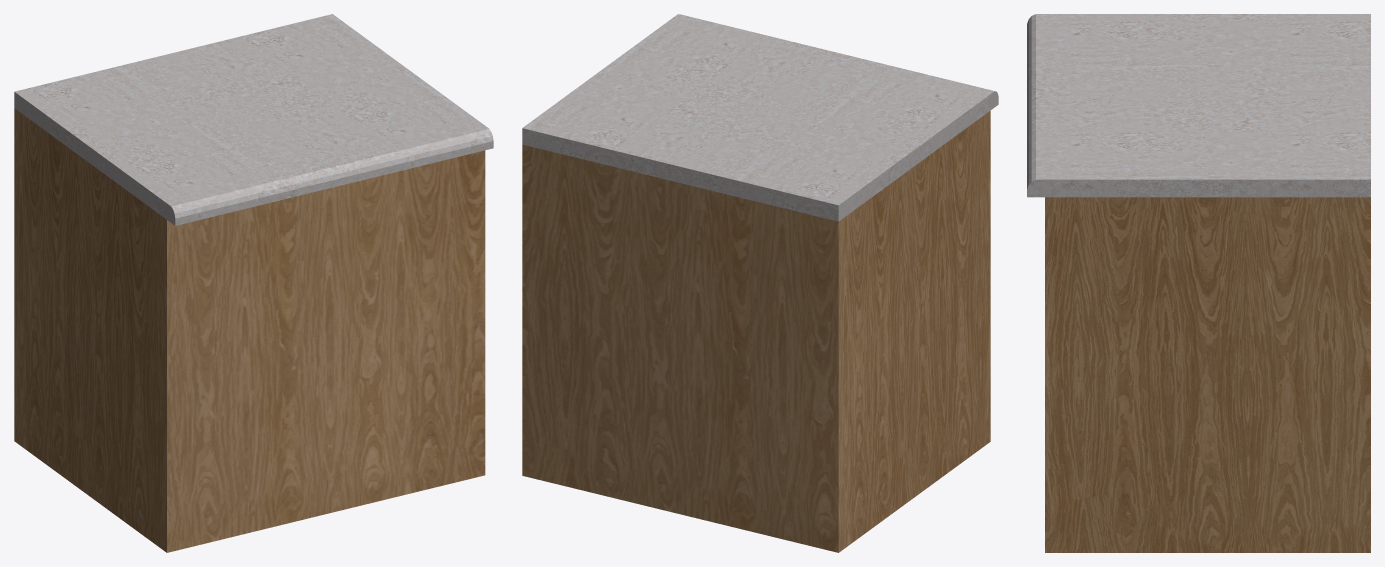
The model's file is Kärpänen_Keittiö_Ilmankaappia.fbx.
3 renders of one model, left to right at view 1: azimuth 30°, elevation 25°; view 2: azimuth 150°, elevation 25°; view 3: azimuth 270°, elevation 25°, orthographic. The views are drawn at different scales.
Parts seen in each view (by area): view 1: Cube.002; view 2: Cube.002; view 3: Cube.002.
Boxes of the visible parts, x1,y1,x2,y2 form: Cube.002: (14, 14, 493, 552); Cube.002: (522, 14, 998, 552); Cube.002: (1027, 14, 1370, 552).
Bounding box in the file's own units: 2531 × 2656 × 2218.
2 materials, 2 textured.
